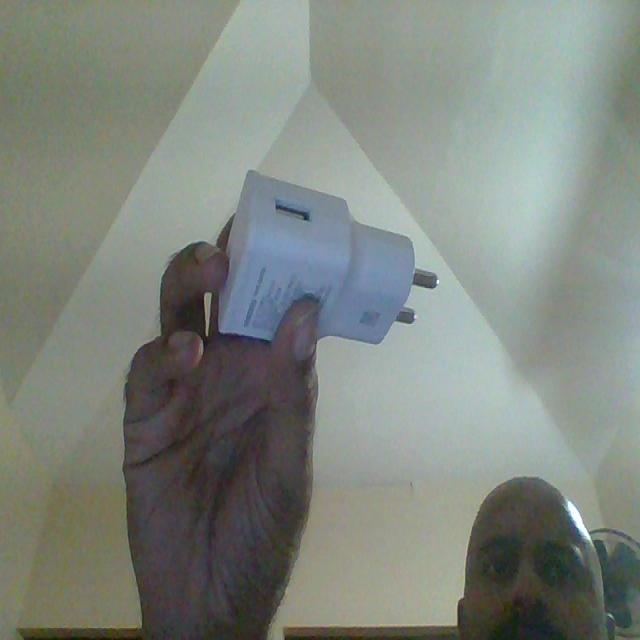charger: (212, 168, 440, 345)
